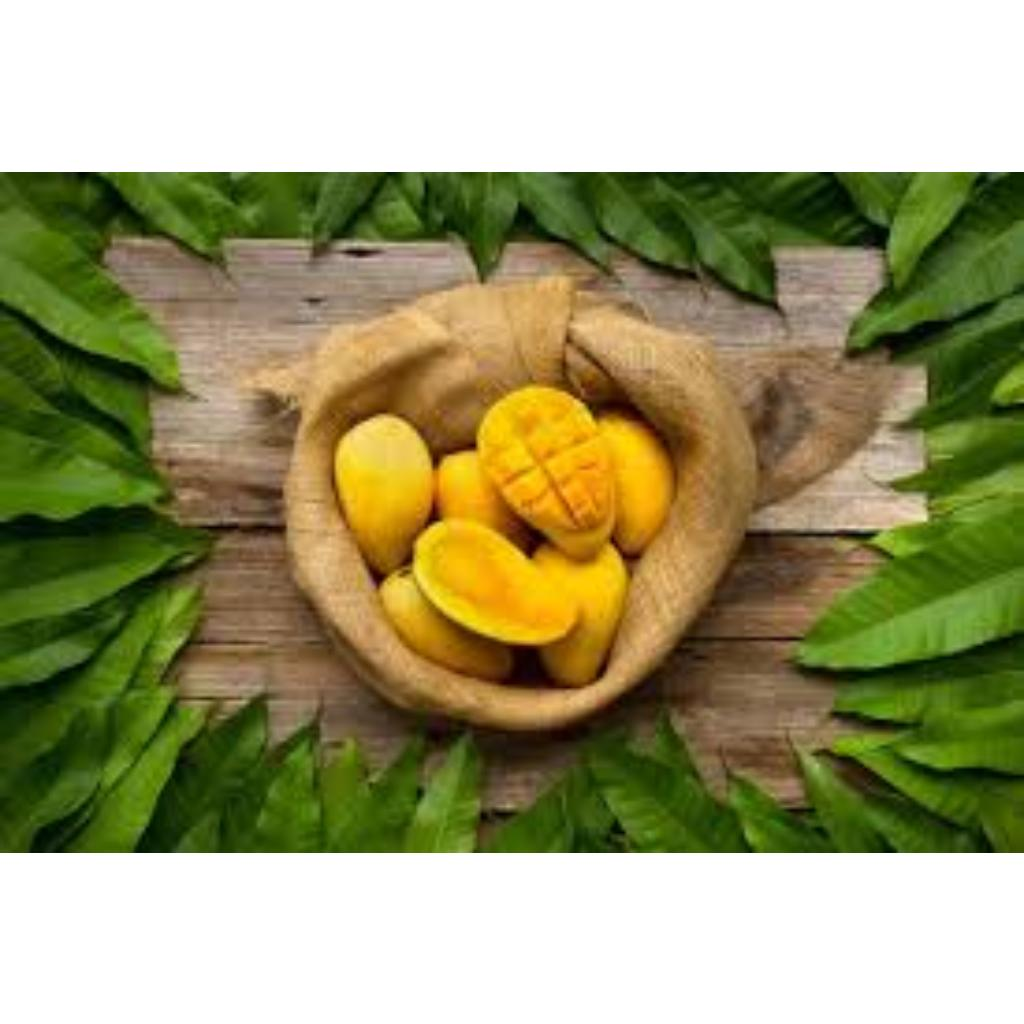mango: (479, 387, 618, 558), (331, 413, 436, 584), (379, 572, 520, 676), (534, 536, 626, 692), (596, 407, 677, 559), (434, 457, 533, 547)
